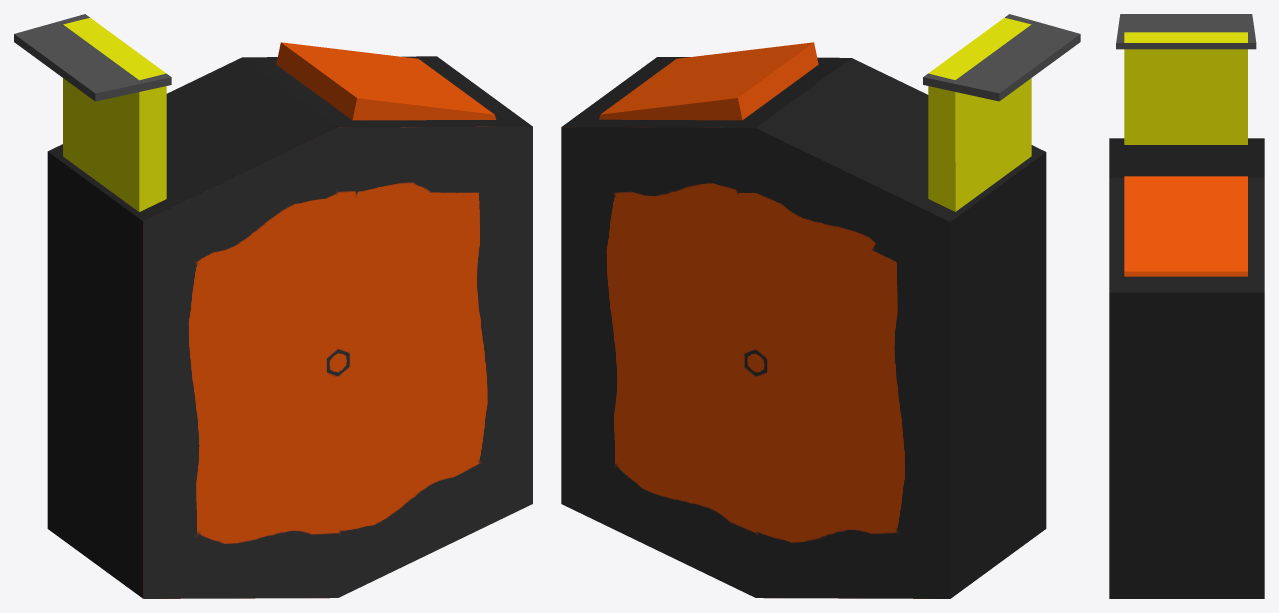
File: MeasuringTape.fbx
3 views of the same model, side by side, from view 1: azimuth 30°, elevation 25°; view 2: azimuth 150°, elevation 25°; view 3: azimuth 270°, elevation 25° (orthographic). The views are drawn at different scales.
Parts seen in each view (by area): view 1: pCylinder1; view 2: pCylinder1; view 3: pCylinder1.
Part boxes in pixels (x1,y1,x2,y2): pCylinder1: (14,14,532,598); pCylinder1: (561,14,1080,598); pCylinder1: (1109,14,1264,598).
Bounding box in the file's own units: 19.16 × 23.68 × 7.38.
